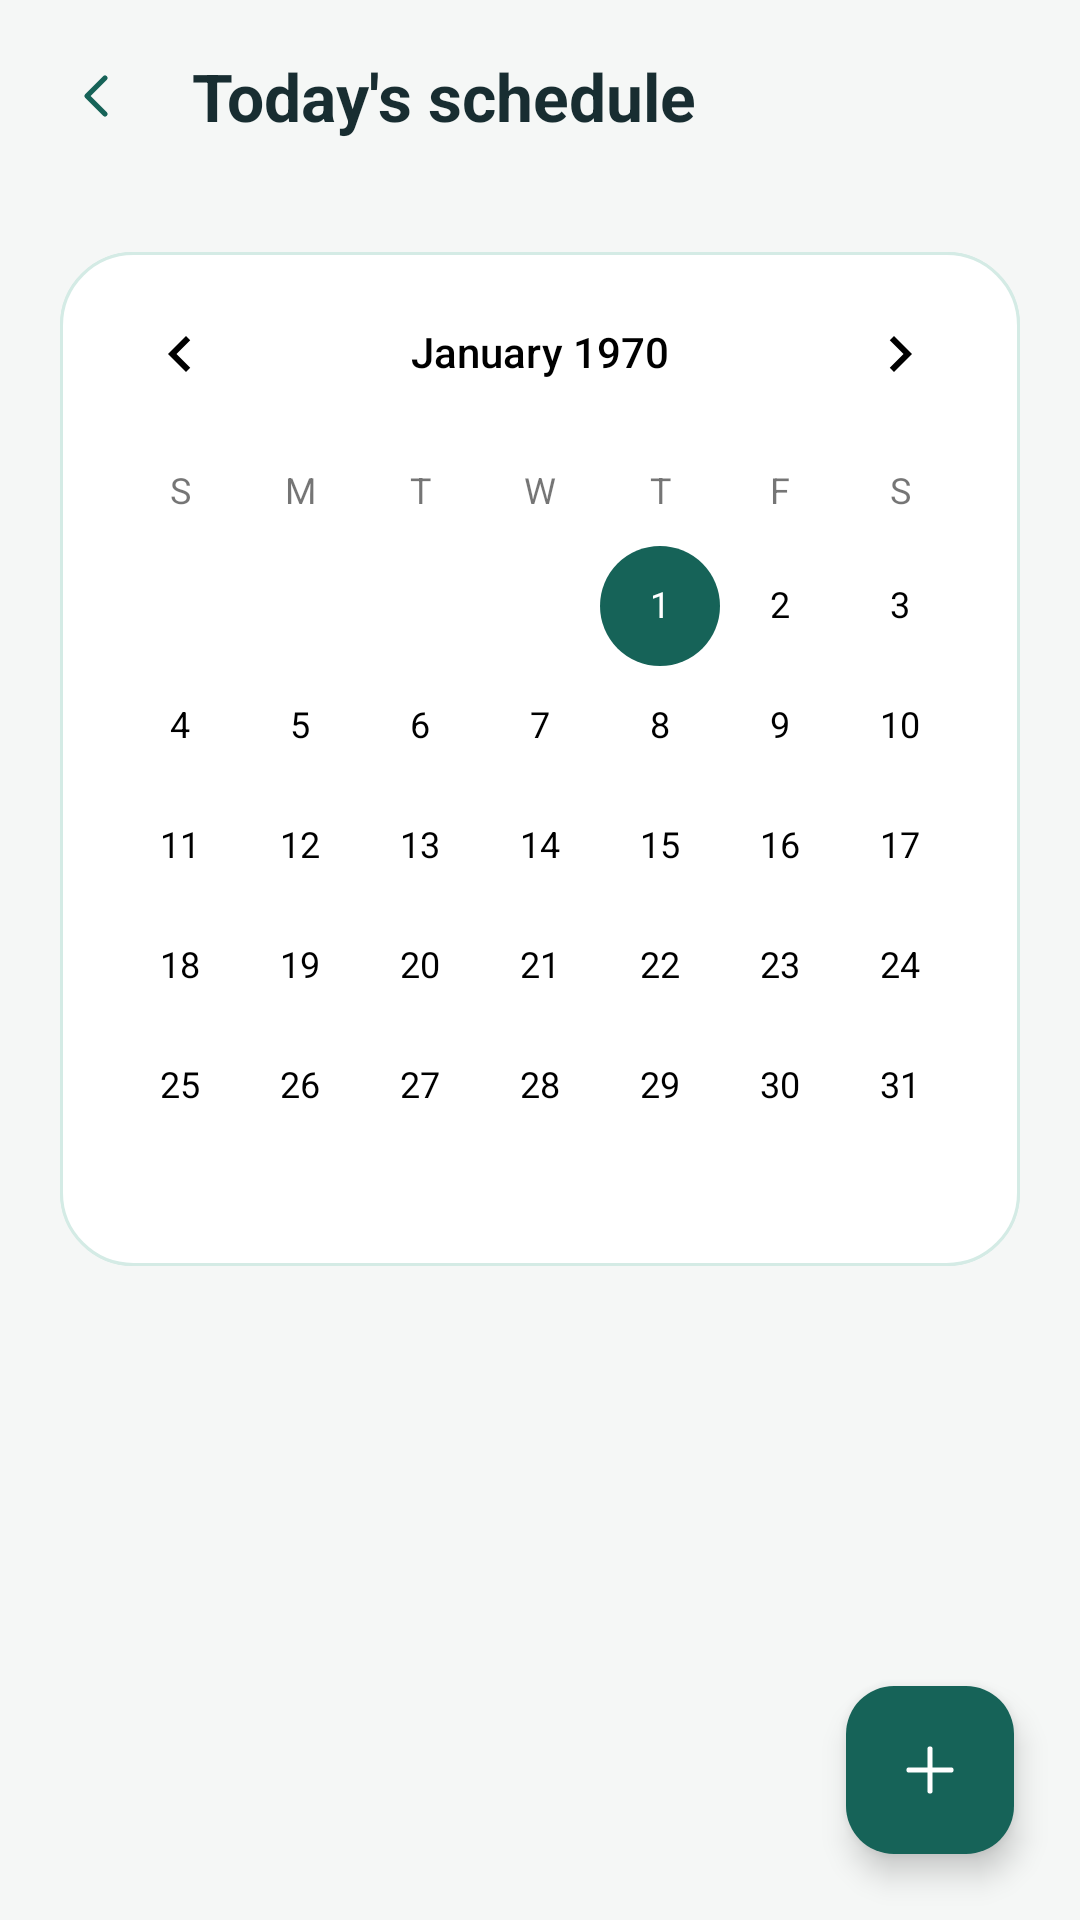

Screen size 1080×1920. Icon name, then its center in pixels as (x,y):
Add schedule: (930,1770)
Back: (96,96)
